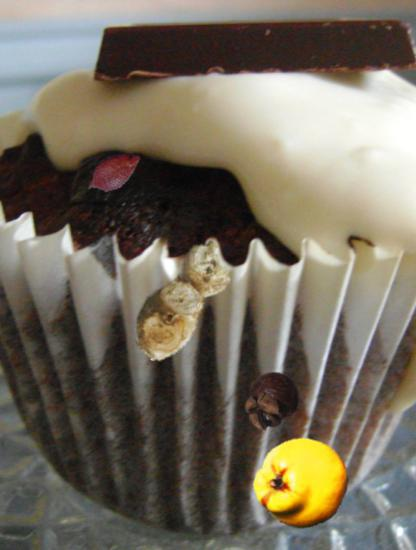Ginger: (115, 233, 251, 369)
Mangostan: (240, 370, 302, 432)
Quince: (254, 435, 350, 531)
Salak: (83, 142, 144, 203)
